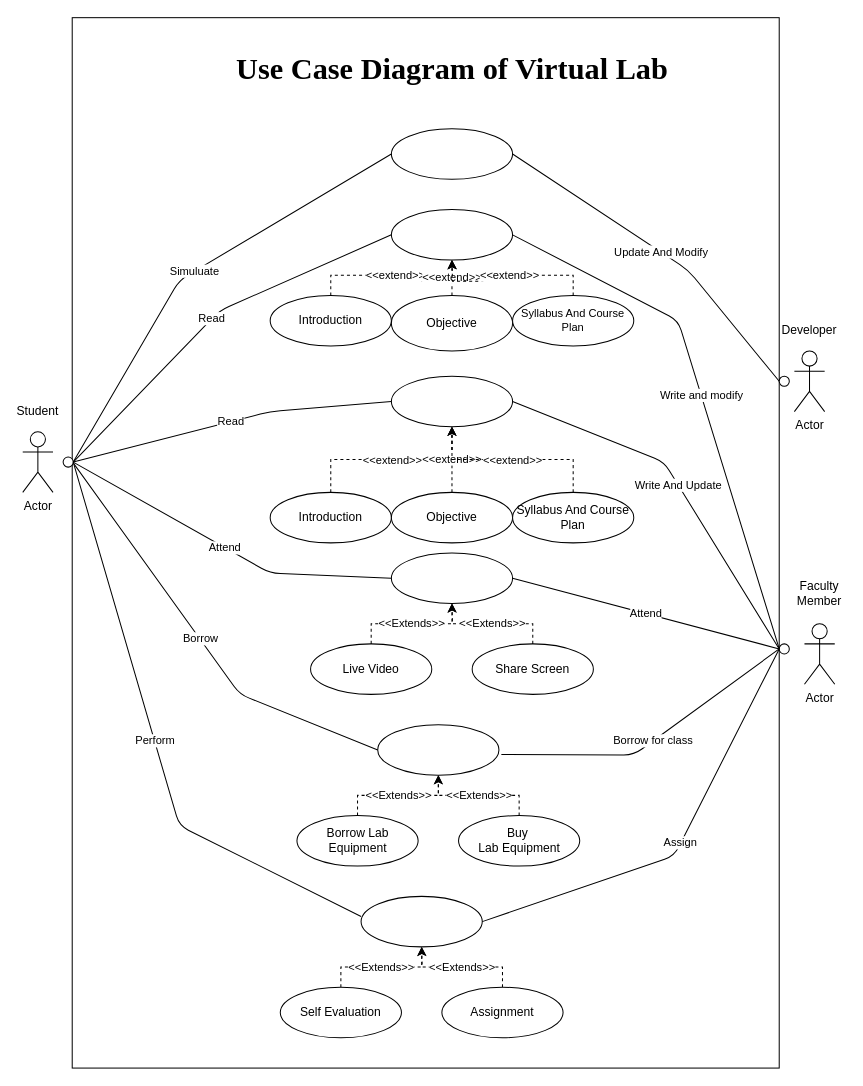
The diagram is 863 pixels wide and 1086 high, and some of its shapes have lost their labels. The shapes that lost their labels are listed below. From the top down, each one's box as (x1, y1, x2, y2) in pixels, then its label:
(390, 128, 513, 179): Simulation or Online Judge
(390, 209, 513, 260): Experiment or Topic
(390, 375, 513, 427): Course Outline
(390, 552, 513, 603): Live Meeting
(377, 724, 499, 775): Lab Equipment
(360, 895, 482, 947): Evaluation
